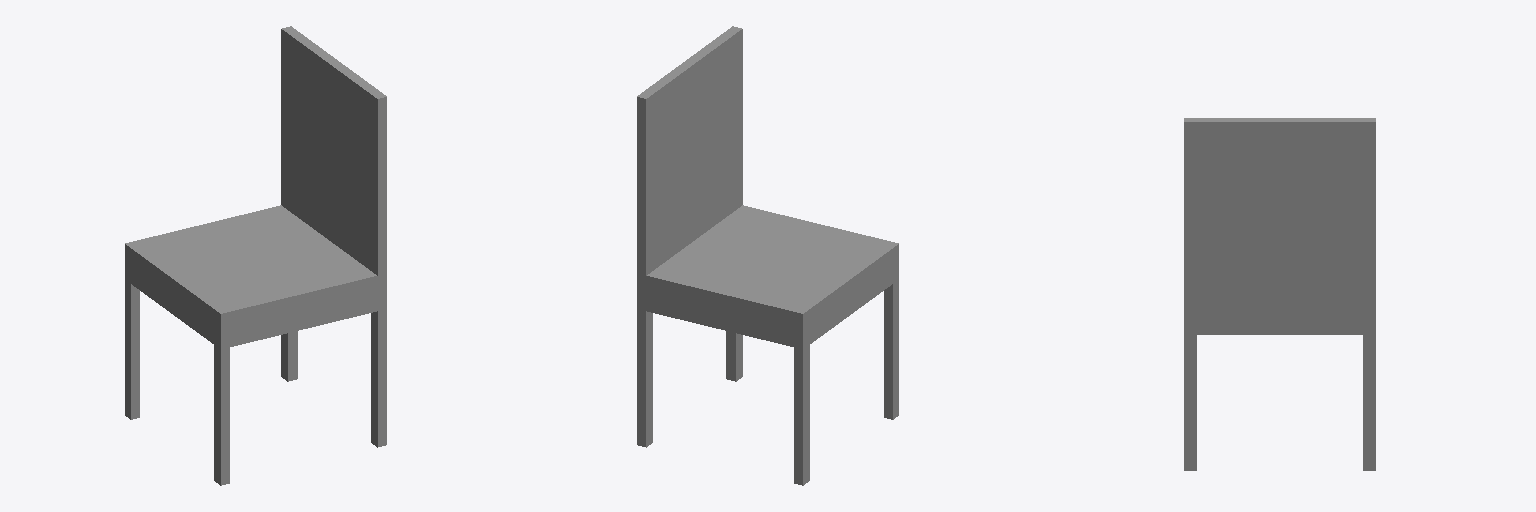
Rendered from chair.obj.
3 renders of one model, left to right at view 1: azimuth 30°, elevation 25°; view 2: azimuth 150°, elevation 25°; view 3: azimuth 270°, elevation 25°, orthographic.
Parts seen in each view (by area): view 1: Cube; view 2: Cube; view 3: Cube.
Part boxes in pixels (bbox=[...]): Cube: bbox=[125, 26, 386, 485]; Cube: bbox=[637, 26, 898, 485]; Cube: bbox=[1184, 118, 1375, 470].
Bounding box in the file's own units: 2 × 4 × 2.